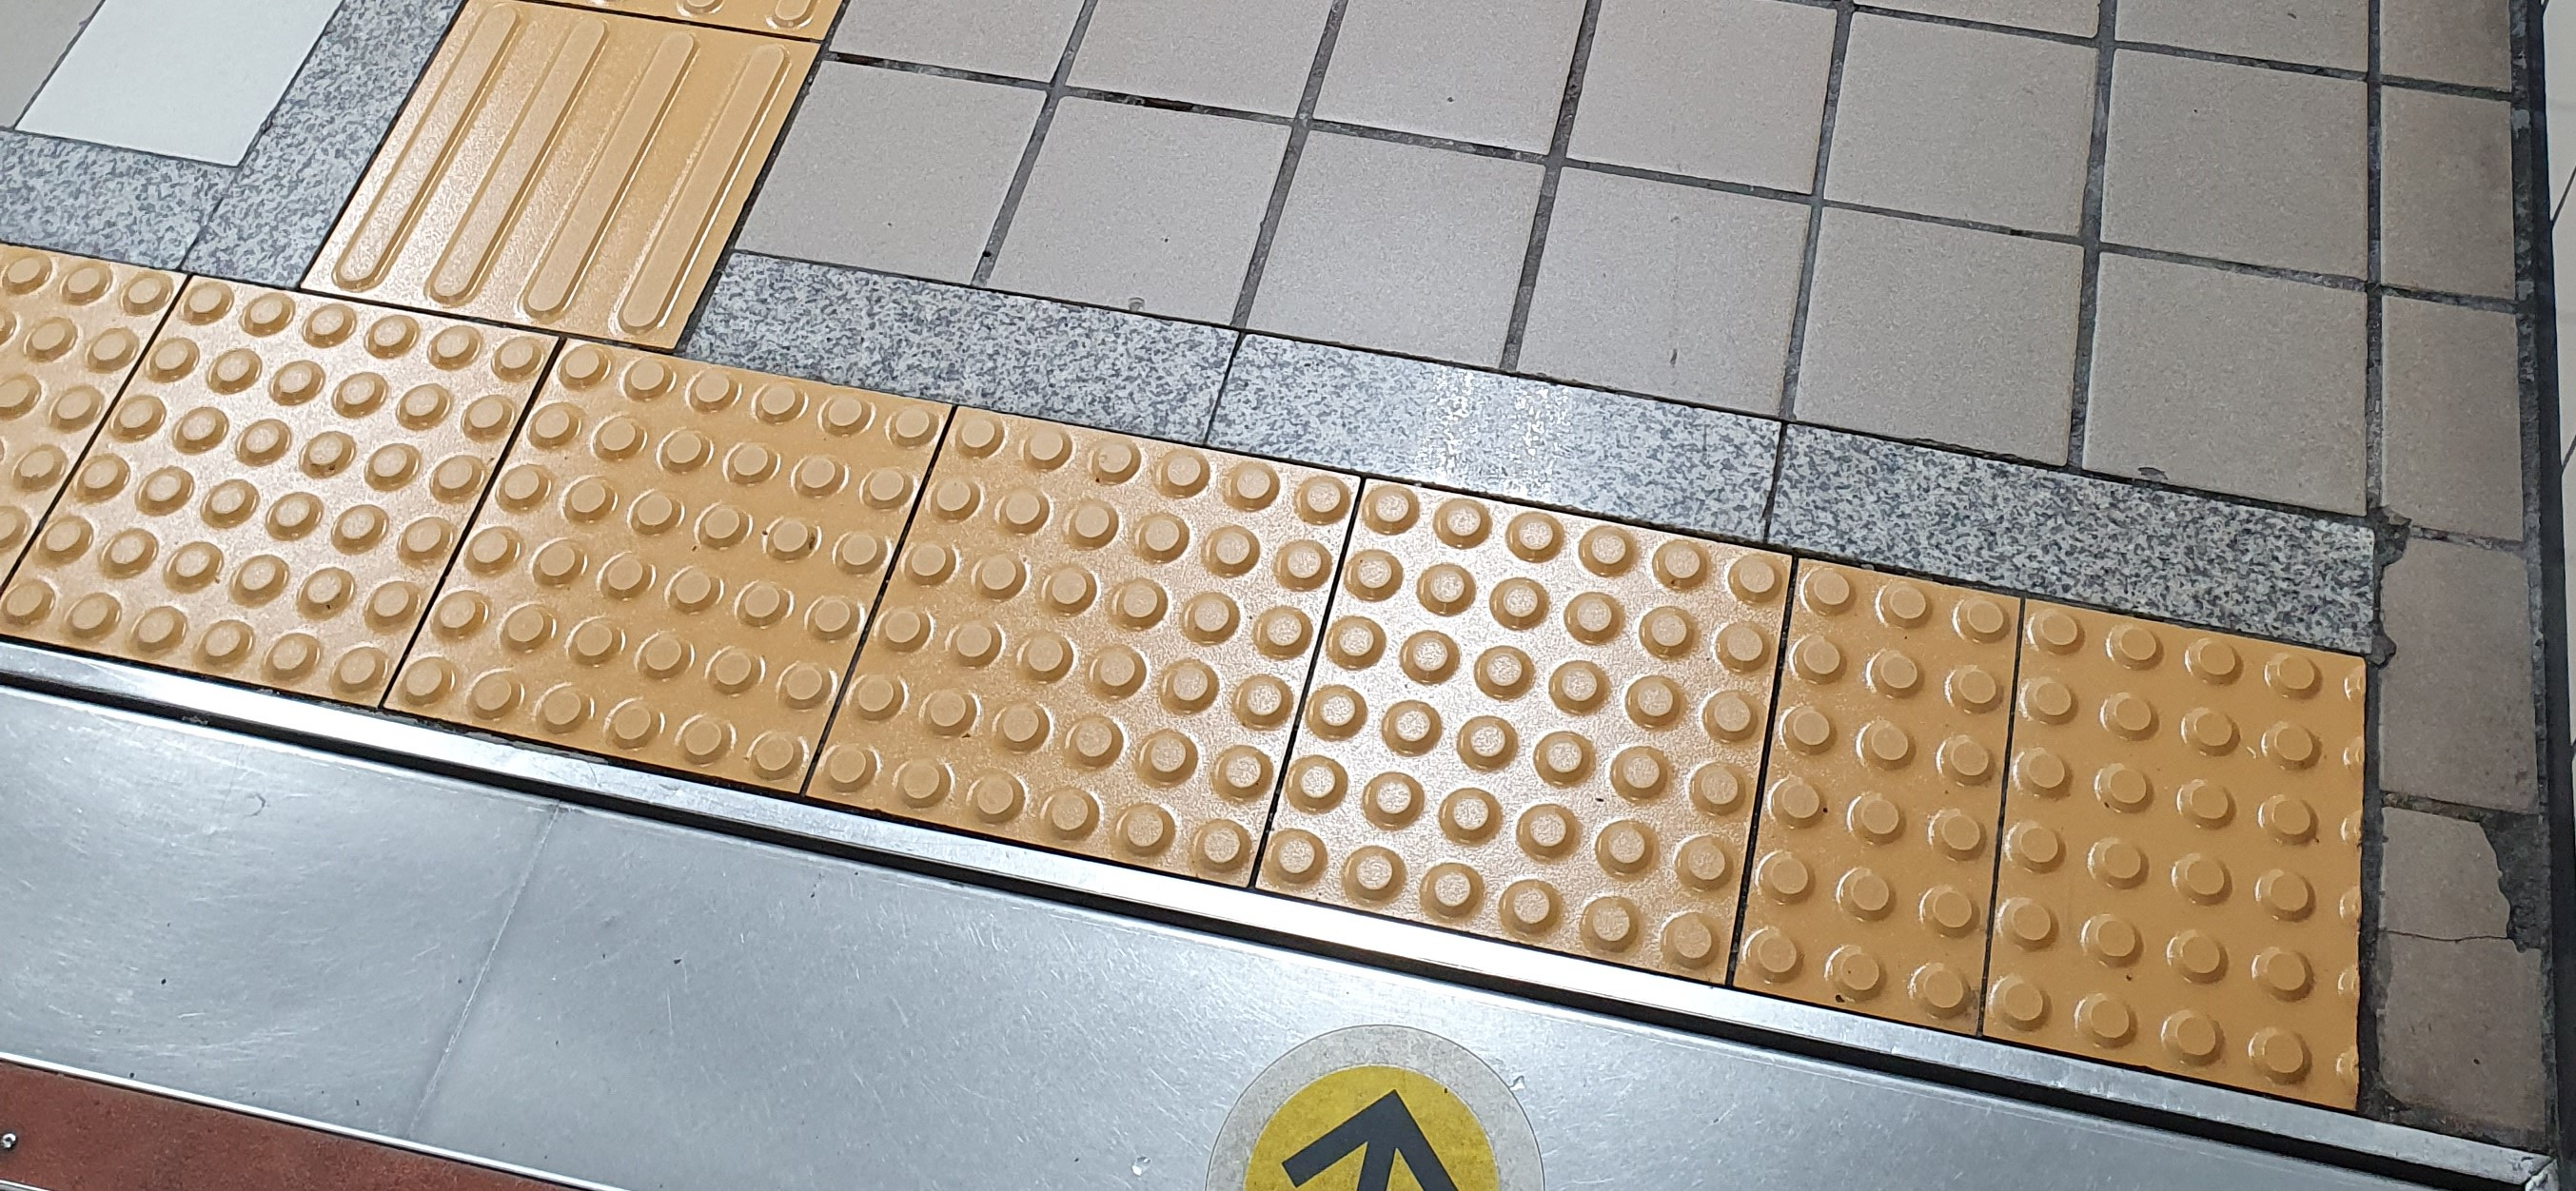guideBlock: (398, 25, 789, 312)
warningBlock: (861, 412, 1359, 889), (2008, 621, 2400, 1191), (1318, 503, 1782, 928), (125, 309, 499, 746), (501, 358, 910, 744), (1784, 570, 1985, 1027), (13, 250, 227, 669)
